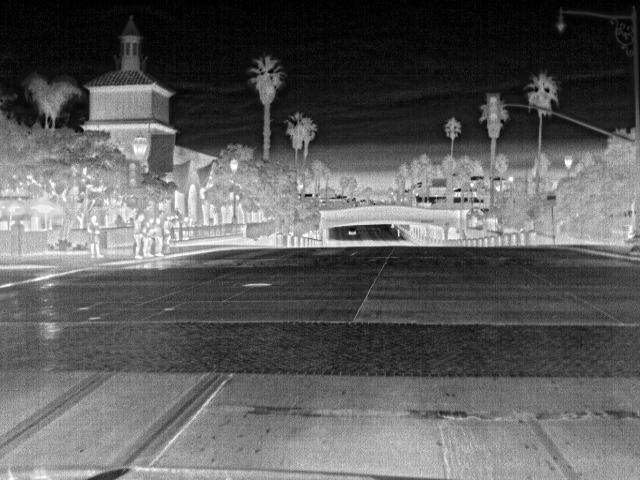car: (347, 226, 358, 236)
person: (86, 212, 107, 260), (141, 214, 157, 258), (130, 210, 143, 262), (152, 218, 166, 259), (161, 214, 174, 244)
